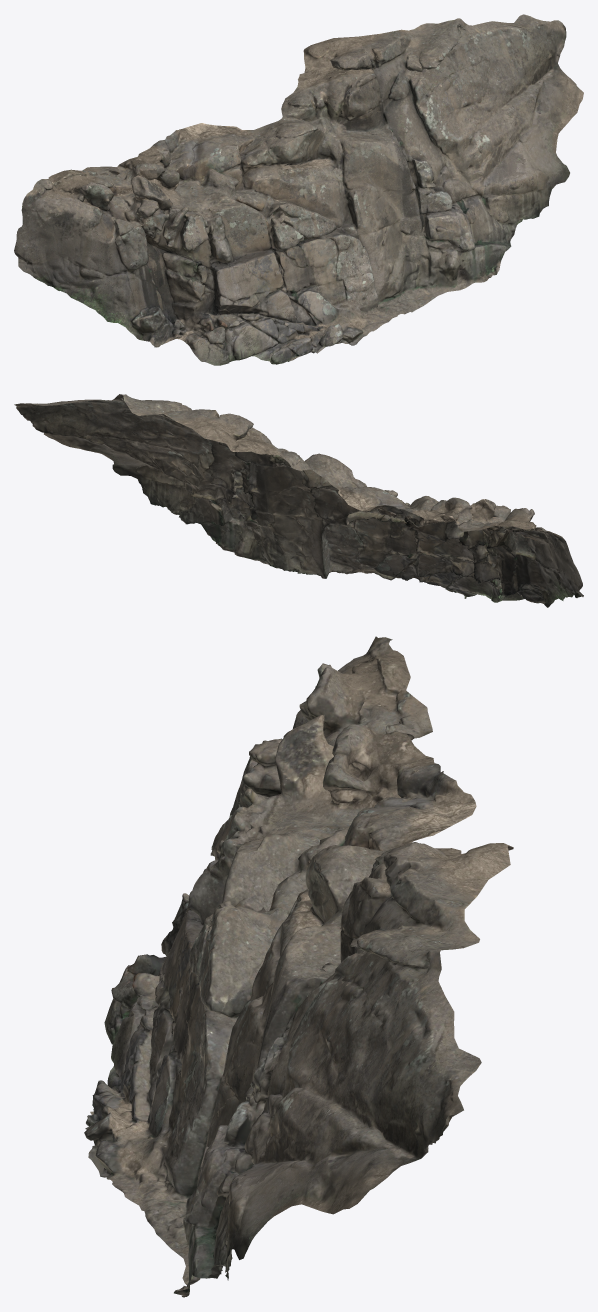
The model's file is namaqualand_cliff_02.glb.
3 renders of one model, top to bottom at view 1: azimuth 30°, elevation 25°; view 2: azimuth 150°, elevation 25°; view 3: azimuth 270°, elevation 25°, orthographic. The views are drawn at different scales.
Parts seen in each view (by area): view 1: namaqualand_cliff_02_LOD0; view 2: namaqualand_cliff_02_LOD0; view 3: namaqualand_cliff_02_LOD0.
Boxes of the visible parts, bbox=[...] form: namaqualand_cliff_02_LOD0: bbox=[14, 14, 583, 365]; namaqualand_cliff_02_LOD0: bbox=[14, 394, 583, 607]; namaqualand_cliff_02_LOD0: bbox=[84, 636, 513, 1297].
Size of what is drawn, in the model's own units: 20.18 by 7.18 by 6.9.
Materials: 1 (1 with a texture image).
